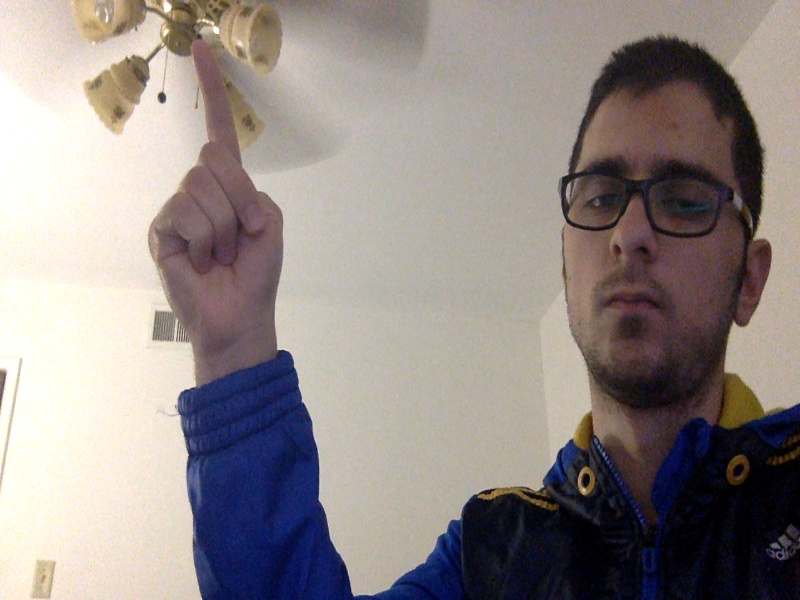1-hand: (149, 41, 282, 343)
